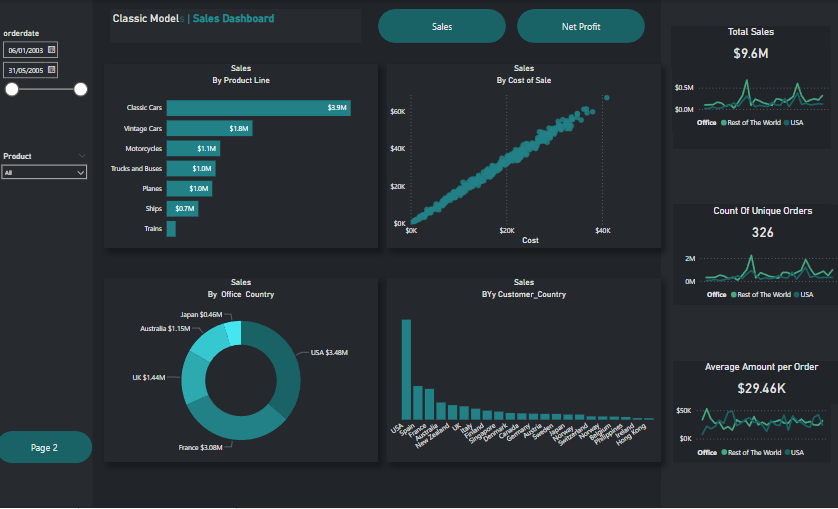

The dashboard page shown, as its layout file describes it:
{"tool":"powerbi","page":{"name":"Sales Overview Page 1","canvas":[1500,900],"ordinal":0},"visuals":[{"type":"shape","box":[0,0,170.8,899.2],"z":0},{"type":"shape","box":[1179,0,321,899.2],"z":1000},{"type":"shape","box":[1199.6,84.4,279.8,179],"z":2000},{"type":"shape","box":[1199.6,362.1,279.8,179],"z":3000},{"type":"shape","box":[1199.6,639.9,279.8,179],"z":4000},{"type":"card","title":"Total Sales","fields":{"Values":["Sum(Sales Data for Power BI.sales_value)"]},"box":[1196.2,46.1,282.8,75.4],"z":5000},{"type":"card","title":"Count Of Unique Orders","fields":{"Values":["Count(Sales Data for Power BI.ordernumber)"]},"box":[1217.2,362.4,282.8,75.4],"z":6000},{"type":"card","title":"Average Amount per Order","fields":{"Values":["Sales Data for Power BI.Average Sales Value Per Order"]},"box":[1216,639.9,281.9,76.1],"z":7000},{"type":"lineChart","fields":{"Y":["Sum(Sales Data for Power BI.sales_value)"],"Category":["Sales Data for Power BI.orderdate.Variation.Date Hierarchy.Year","Sales Data for Power BI.orderdate.Variation.Date Hierarchy.Quarter","Sales Data for Power BI.orderdate.Variation.Date Hierarchy.Month"],"Series":["Sales Data for Power BI.OfficeGrouped"]},"box":[1197.6,118.7,281.7,116.9],"z":8000},{"type":"lineChart","fields":{"Category":["Sales Data for Power BI.orderdate.Variation.Date Hierarchy.Year","Sales Data for Power BI.orderdate.Variation.Date Hierarchy.Quarter","Sales Data for Power BI.orderdate.Variation.Date Hierarchy.Month"],"Series":["Sales Data for Power BI.OfficeGrouped"],"Y":["Sum(Sales Data for Power BI.ordernumber)"]},"box":[1215.4,423.4,281.7,116.9],"z":9000},{"type":"lineChart","fields":{"Category":["Sales Data for Power BI.orderdate.Variation.Date Hierarchy.Year","Sales Data for Power BI.orderdate.Variation.Date Hierarchy.Quarter","Sales Data for Power BI.orderdate.Variation.Date Hierarchy.Month"],"Series":["Sales Data for Power BI.OfficeGrouped"],"Y":["Sales Data for Power BI.Average Sales Value Per Order"]},"box":[1200,704,280,116],"z":10000},{"type":"clusteredBarChart","fields":{"Y":["Table.Selected Metric"],"Category":["Sales Data for Power BI.productLine"]},"box":[191.3,113.4,485.4,326],"z":11000},{"type":"actionButton","box":[676.8,15.9,226.8,60.2],"z":12000},{"type":"actionButton","box":[923,15.9,226.8,60.2],"z":13000},{"type":"scatterChart","fields":{"Y":["Table.Selected Metric"],"X":["Sum(Sales Data for Power BI.cost_of_sales)"],"Category":["Sales Data for Power BI.ordernumber"]},"box":[692.7,113.4,485.4,326],"z":15000},{"type":"donutChart","fields":{"Y":["Table.Selected Metric"],"Category":["Sales Data for Power BI.office_country"]},"box":[191.3,492.5,485.4,326],"z":16000},{"type":"clusteredColumnChart","fields":{"Category":["Sales Data for Power BI.customer_country"],"Y":["Table.Selected Metric"]},"box":[692.7,492.5,485.4,326],"z":17000},{"type":"textbox","box":[202,15.9,444.7,60.2],"z":18000},{"type":"actionButton","box":[0,762.7,170.6,56.9],"z":20000},{"type":"slicer","fields":{"Values":["Sales Data for Power BI.orderdate"]},"box":[0,46.9,171.4,157.1],"z":21000},{"type":"slicer","title":"Product","fields":{"Values":["Sales Data for Power BI.productName"]},"box":[0,263.3,171.4,157.1],"z":23000}]}

Visuals, with their boxes in screenshot pixels (x1, y1, x2, y2), scaled from the page's 1500x900 canvas onto the 838x509 screenshot:
shape: rect(0, 0, 95, 508)
shape: rect(659, 0, 837, 508)
shape: rect(670, 48, 826, 149)
shape: rect(670, 205, 826, 306)
shape: rect(670, 362, 826, 463)
"Total Sales" card: rect(668, 26, 826, 69)
"Count Of Unique Orders" card: rect(680, 205, 837, 248)
"Average Amount per Order" card: rect(679, 362, 837, 405)
lineChart - Sum(Sales Data for Power BI.sales_value) x Sales Data for Power BI.orderdate.Variation.Date Hierarchy.Year: rect(669, 67, 826, 133)
lineChart - Sales Data for Power BI.orderdate.Variation.Date Hierarchy.Year x Sales Data for Power BI.orderdate.Variation.Date Hierarchy.Quarter: rect(679, 239, 836, 306)
lineChart - Sales Data for Power BI.orderdate.Variation.Date Hierarchy.Year x Sales Data for Power BI.orderdate.Variation.Date Hierarchy.Quarter: rect(670, 398, 827, 464)
clusteredBarChart - Table.Selected Metric x Sales Data for Power BI.productLine: rect(107, 64, 378, 249)
actionButton: rect(378, 9, 505, 43)
actionButton: rect(516, 9, 642, 43)
scatterChart - Table.Selected Metric x Sum(Sales Data for Power BI.cost_of_sales): rect(387, 64, 658, 249)
donutChart - Table.Selected Metric x Sales Data for Power BI.office_country: rect(107, 279, 378, 463)
clusteredColumnChart - Sales Data for Power BI.customer_country x Table.Selected Metric: rect(387, 279, 658, 463)
textbox: rect(113, 9, 361, 43)
actionButton: rect(0, 431, 95, 464)
slicer - Sales Data for Power BI.orderdate: rect(0, 27, 96, 115)
"Product" slicer: rect(0, 149, 96, 238)
